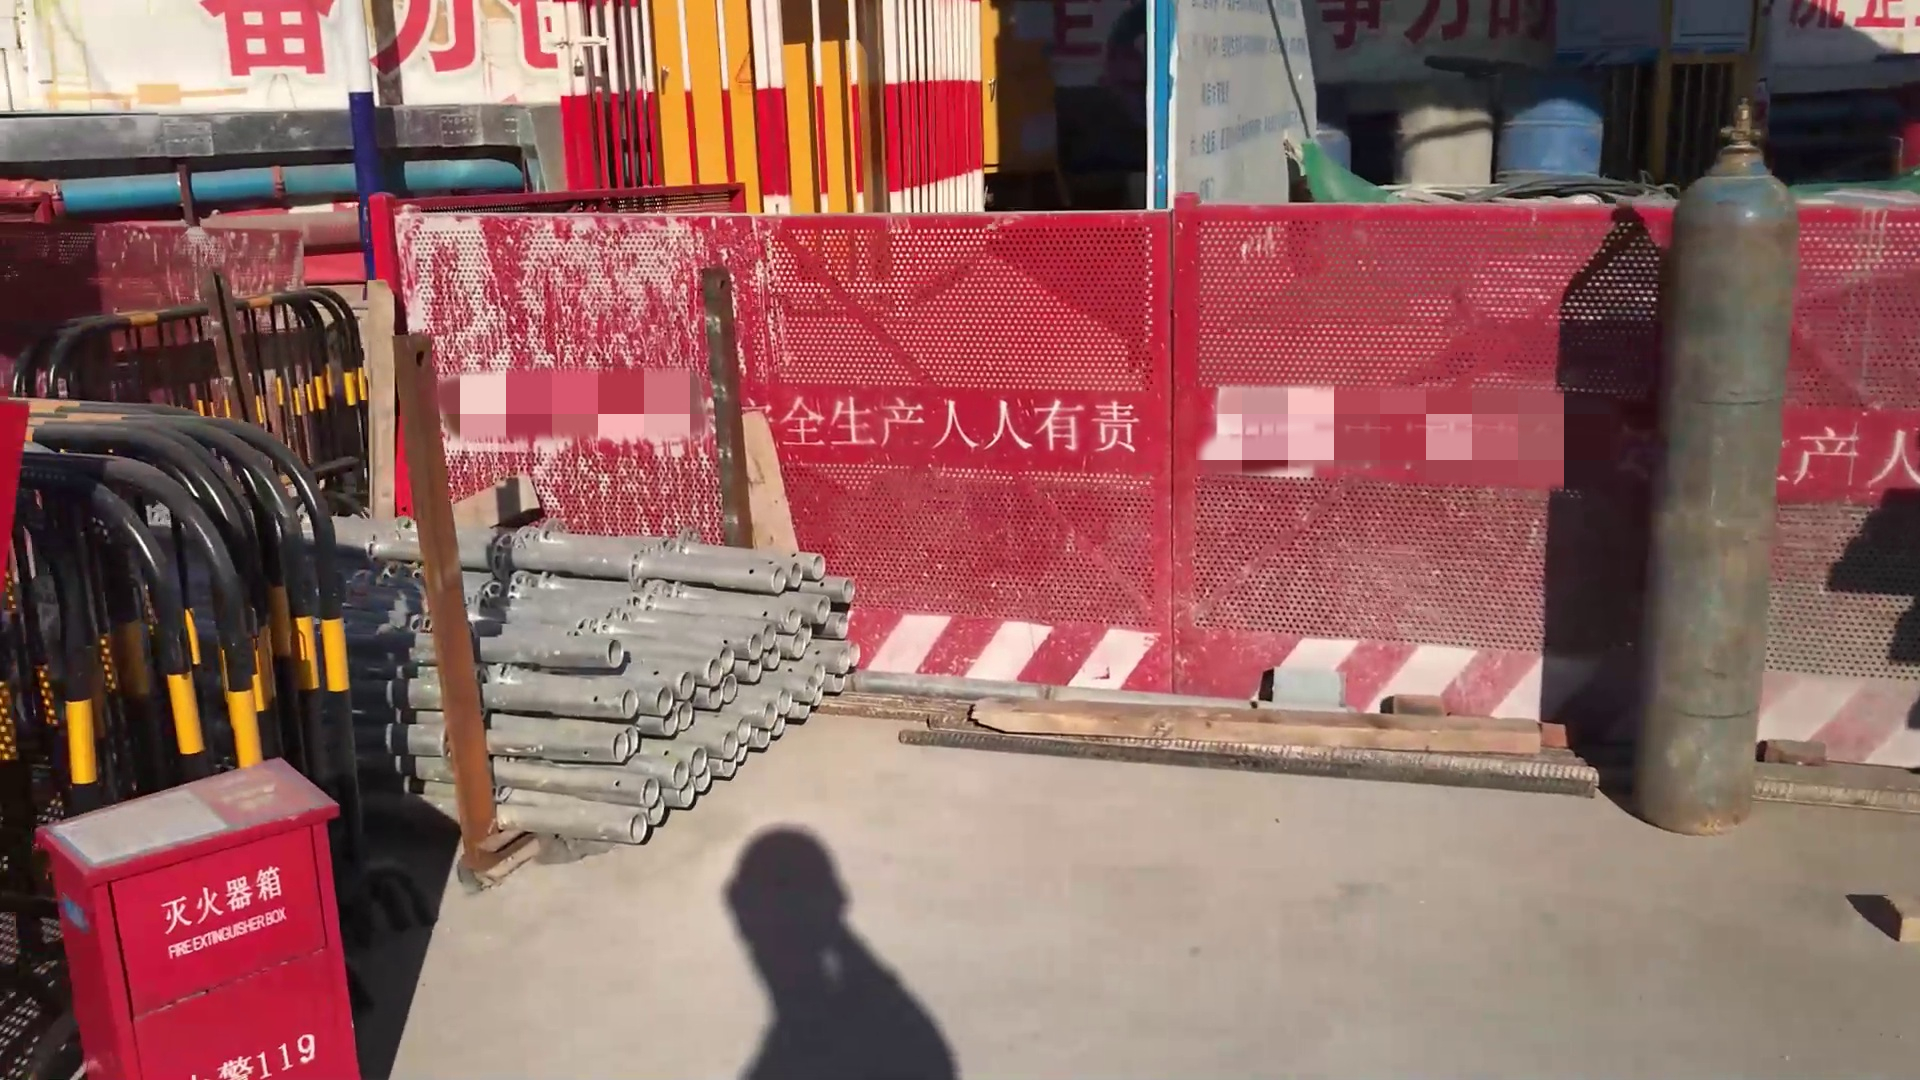fence: (1188, 189, 1642, 742), (390, 200, 1167, 496), (1, 407, 342, 791), (597, 1, 1011, 218), (1792, 190, 1916, 766), (36, 295, 363, 415)
scaffold: (315, 492, 866, 853)
